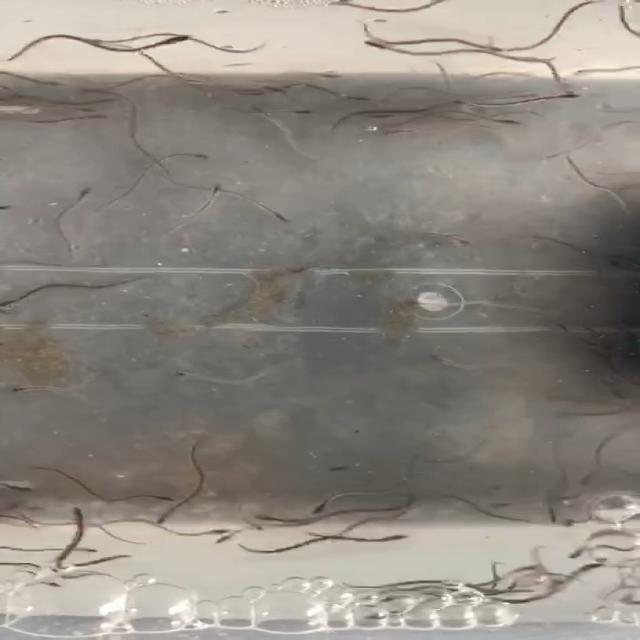active_glass_eel: (158, 150, 217, 165), (294, 66, 344, 82), (88, 92, 134, 109), (67, 504, 99, 528), (260, 209, 300, 228), (376, 124, 422, 139), (33, 73, 71, 91), (151, 34, 193, 50), (368, 530, 416, 544), (213, 528, 255, 544), (198, 184, 235, 202), (540, 504, 570, 526), (305, 499, 340, 517), (202, 523, 242, 538), (258, 81, 292, 98), (166, 366, 202, 382), (12, 503, 50, 518), (67, 185, 100, 202), (322, 459, 355, 476), (250, 512, 289, 526), (360, 36, 396, 51), (275, 103, 315, 116), (486, 496, 520, 511), (398, 489, 420, 512), (84, 113, 120, 127), (4, 383, 46, 395), (445, 232, 476, 248), (353, 111, 396, 122), (289, 261, 328, 273), (473, 42, 525, 51), (567, 66, 605, 78), (34, 579, 66, 593), (6, 481, 34, 497), (141, 492, 185, 502), (152, 512, 179, 528), (60, 105, 102, 115), (553, 90, 590, 101), (488, 119, 532, 128), (343, 90, 376, 102), (65, 544, 104, 554), (85, 34, 120, 45), (251, 104, 283, 116), (550, 316, 571, 334), (560, 548, 590, 560), (0, 200, 21, 216), (242, 520, 270, 532), (536, 154, 566, 165), (236, 89, 268, 99), (608, 258, 631, 270), (0, 299, 21, 310), (478, 274, 482, 275)
